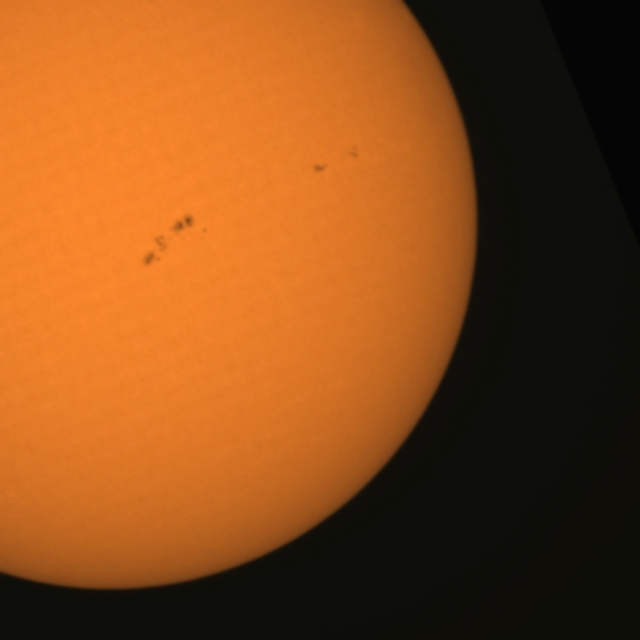sunspot: (149, 212, 212, 257), (140, 232, 169, 269), (311, 161, 330, 176), (345, 143, 360, 162)
